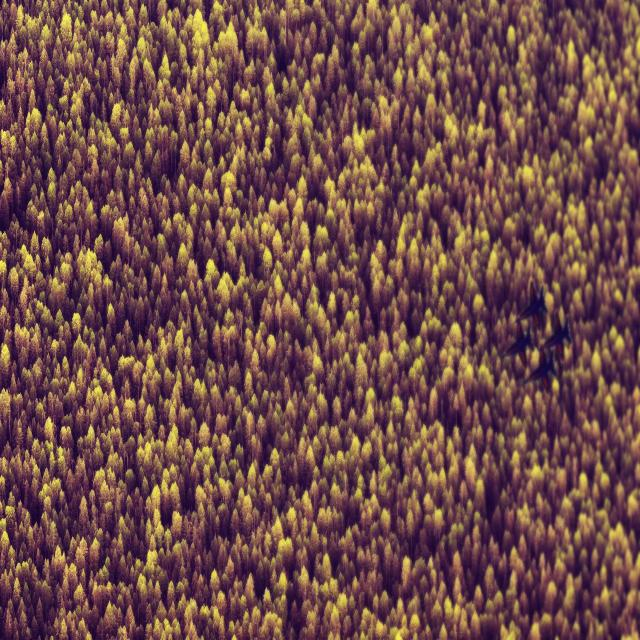airplane: (501, 322, 535, 366), (540, 313, 571, 360), (524, 348, 556, 393), (516, 282, 548, 326)
